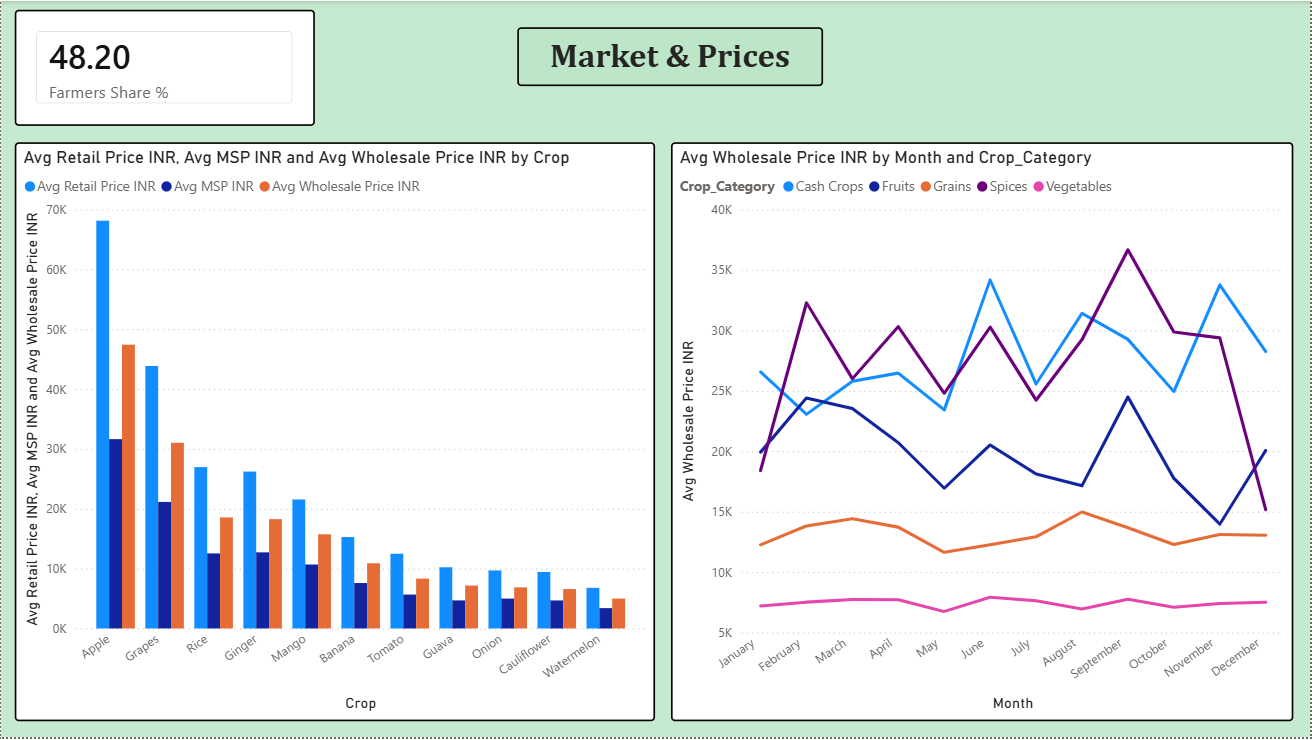

Layout of this report page (visuals, bound fields, positions):
{"tool":"powerbi","page":{"name":"Market & Prices","canvas":[1280,720],"ordinal":4},"visuals":[{"type":"clusteredColumnChart","fields":{"Category":["Market_Price_Trends.Crop"],"Y":["Measures (2).Avg Retail Price INR","Measures (2).Avg MSP INR","Measures (2).Avg Wholesale Price INR"]},"box":[13.5,138.2,626.1,566.2],"z":0},{"type":"lineChart","fields":{"Category":["Market_Price_Trends.Date.Variation.Date Hierarchy.Month"],"Y":["Measures (2).Avg Wholesale Price INR"],"Series":["Market_Price_Trends.Crop_Category"]},"box":[655.4,138.2,609,566.2],"z":1000},{"type":"cardVisual","fields":{"Data":["Measures (2).Farmers Share %"]},"box":[13.5,8.6,293.5,113.7],"z":2000},{"type":"textbox","box":[505,25.7,299.6,57.5],"z":3000}]}

Visuals, with their boxes in screenshot pixels (x1, y1, x2, y2), scaled from the page's 1280x720 canvas onto the 1312x740 screenshot:
clusteredColumnChart - Market_Price_Trends.Crop x Measures (2).Avg Retail Price INR: 14 142 656 724
lineChart - Market_Price_Trends.Date.Variation.Date Hierarchy.Month x Measures (2).Avg Wholesale Price INR: 672 142 1296 724
cardVisual - Measures (2).Farmers Share %: 14 9 315 126
textbox: 518 26 825 86
